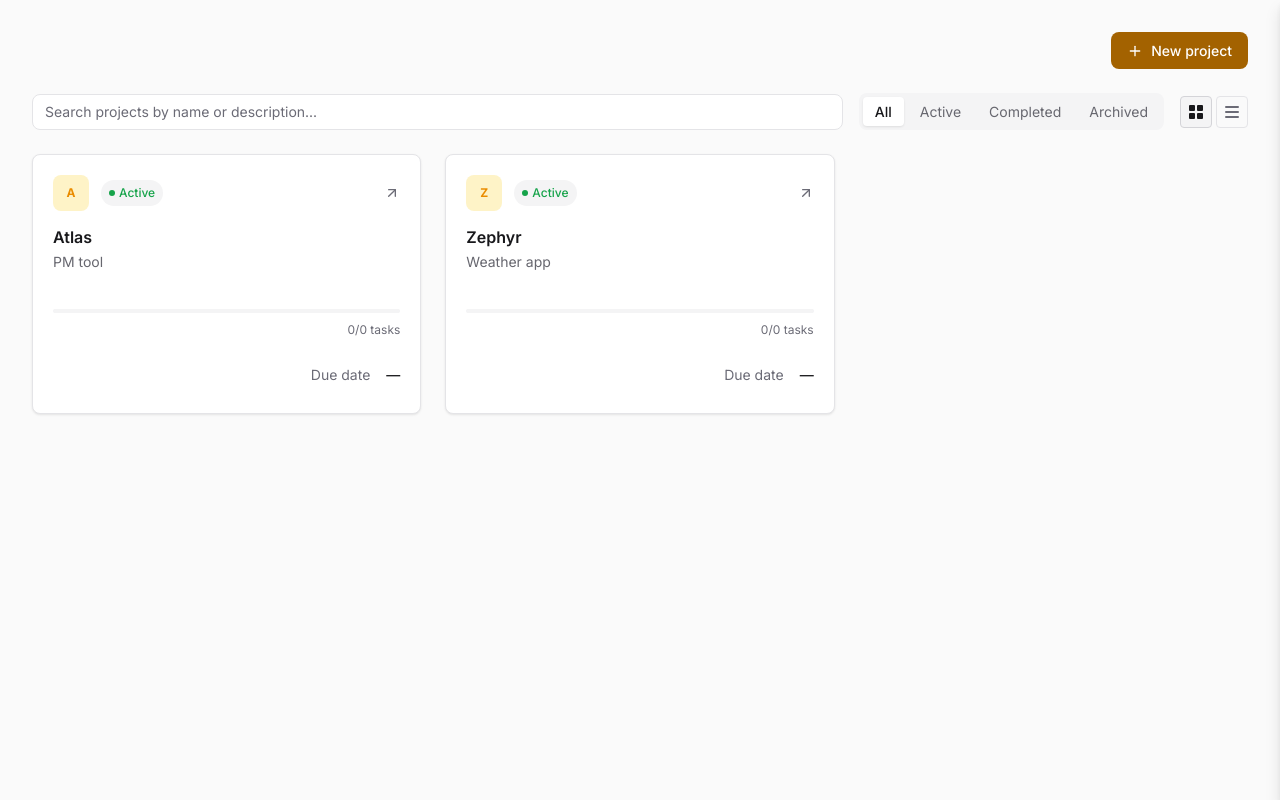
Test: ProjectList search, filter, and view toggle › should filter the grid by name/description search
Type "atlas" into the search field with placeholder "Search projects by name or description..." at (437, 112), box [32,94,843,130]
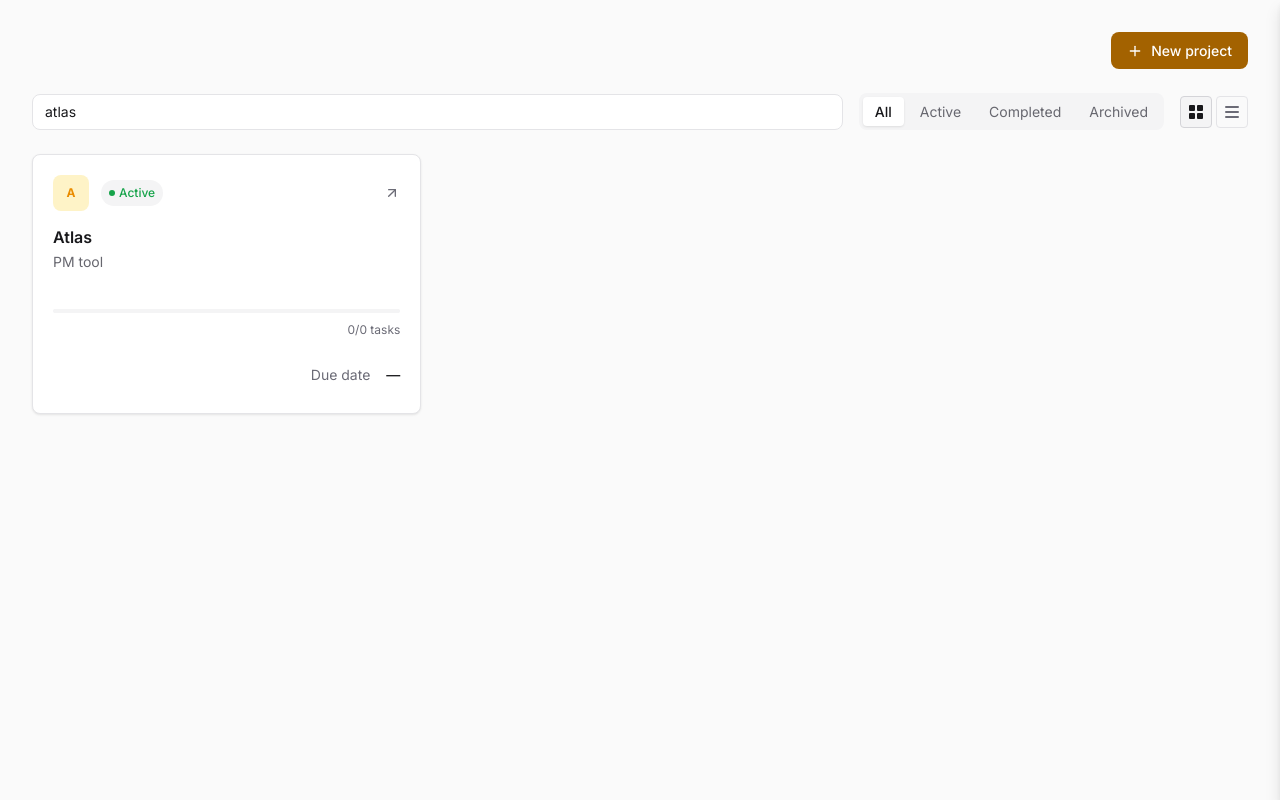
Check: the link "Atlas" is shown, box [53,227,92,247]
Check: the link "Zephyr" is gone
